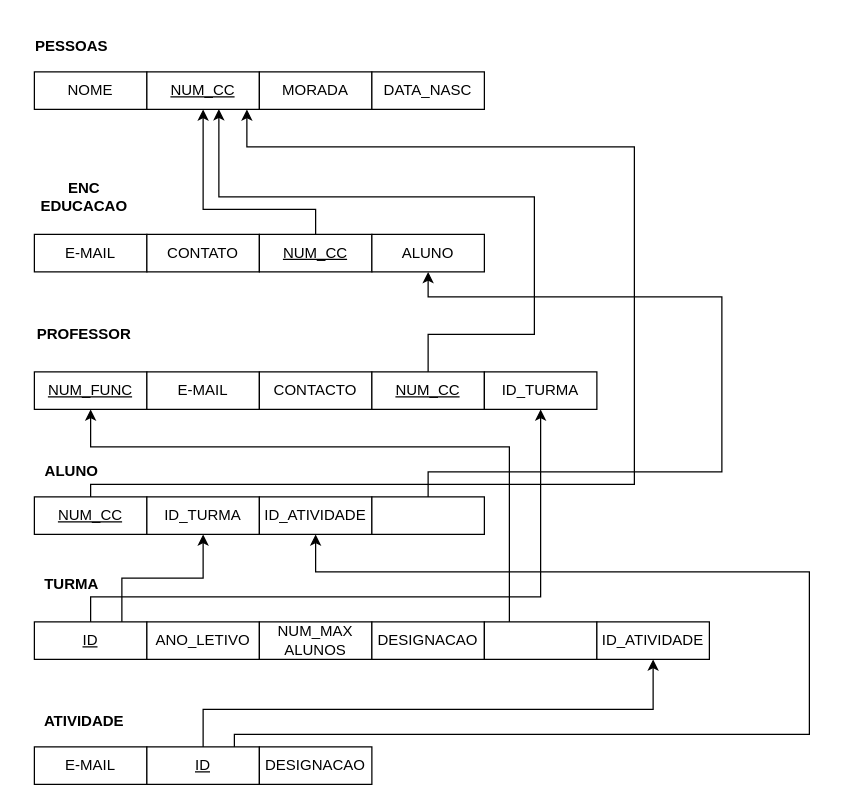
Image size: 841x806. Some labels were removed from this diagram. The box of each missing label's shape, as (x1, y1, x2, y2) in pixels:
ID_ALUNO: (371, 496, 484, 534)
PROF: (483, 621, 597, 659)
